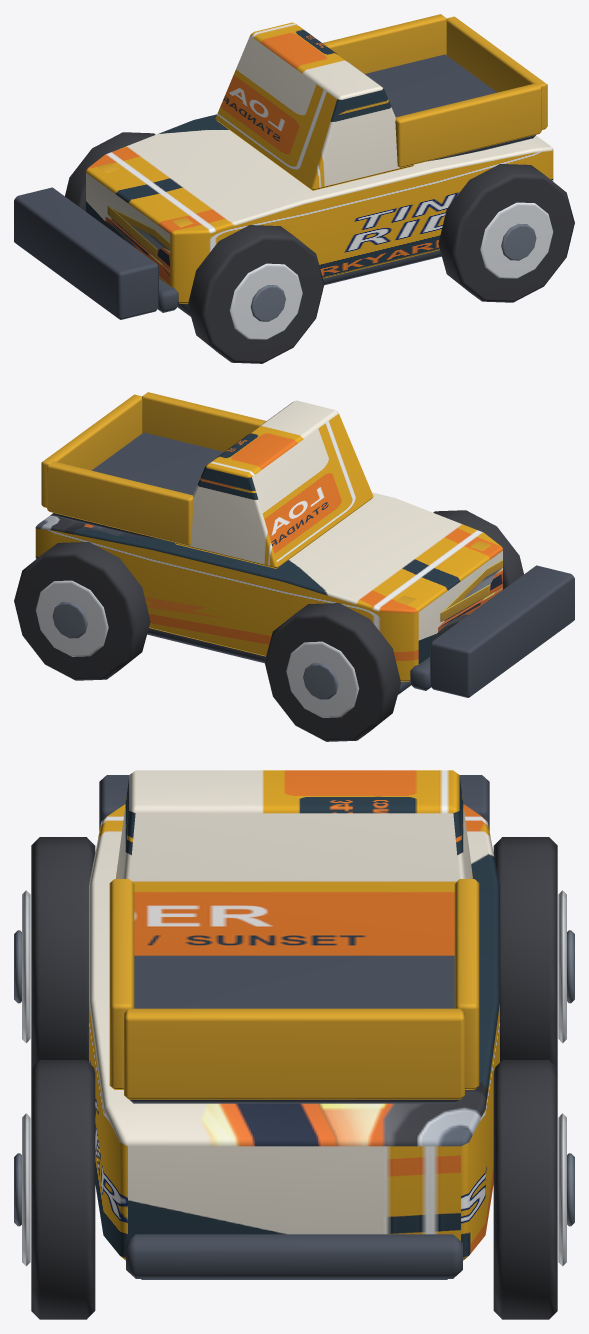
The picture shows the model from 3 angles, top to bottom: view 1: azimuth 30°, elevation 25°; view 2: azimuth 150°, elevation 25°; view 3: azimuth 270°, elevation 25°; orthographic projection. The views are drawn at different scales.
Visible parts, largest first — view 1: WY-05_connected_shell, WY-05_cabin, loader bucket, Tire.002, Tire, cargo side, cargo floor, cargo side.001, cargo tail, Rim, Rim.002, Tire.001 (+4 smaller); view 2: WY-05_connected_shell, WY-05_cabin, loader bucket, Tire.003, Tire.001, cargo side.001, cargo floor, cargo side, cargo tail, Rim.001, Rim.003, Tire (+4 smaller); view 3: WY-05_connected_shell, WY-05_cabin, cargo tail, cargo floor, Tire.002, Tire.003, rear bumper, Tire, Tire.001, cargo side, cargo side.001, loader bucket (+4 smaller).
Part boxes in pixels (x1,y1,x2,y2): WY-05_connected_shell: (86,114,553,303); WY-05_cabin: (215,22,413,190); loader bucket: (14,187,158,319); Tire.002: (438,164,574,302); Tire: (188,225,324,363); cargo side: (395,83,541,167); cargo floor: (365,54,535,161); cargo side.001: (322,14,446,73); cargo tail: (446,16,547,129); Rim: (229,263,302,339); Rim.002: (480,202,553,278); Tire.001: (65,132,155,211); WY-05_connected_shell: (35,492,502,681); WY-05_cabin: (175,400,373,568); loader bucket: (430,565,574,697); Tire.003: (14,542,150,680); Tire.001: (264,603,400,741); cargo side.001: (47,461,193,545); cargo floor: (53,432,223,539); cargo side: (142,392,266,451); cargo tail: (41,394,142,507); Rim.001: (286,641,359,717); Rim.003: (35,580,108,656); Tire: (433,510,523,589); WY-05_connected_shell: (89,804,499,1260); WY-05_cabin: (116,770,472,955); cargo tail: (124,1008,464,1099); cargo floor: (129,955,459,1103); Tire.002: (31,1060,95,1319); Tire.003: (493,1060,557,1319); rear bumper: (126,1234,462,1278); Tire: (31,837,95,1068); Tire.001: (493,837,557,1068); cargo side: (109,879,134,1089); cargo side.001: (454,879,479,1089); loader bucket: (99,775,489,830).
Size of the model in its own units: 389 by 183 by 228.
